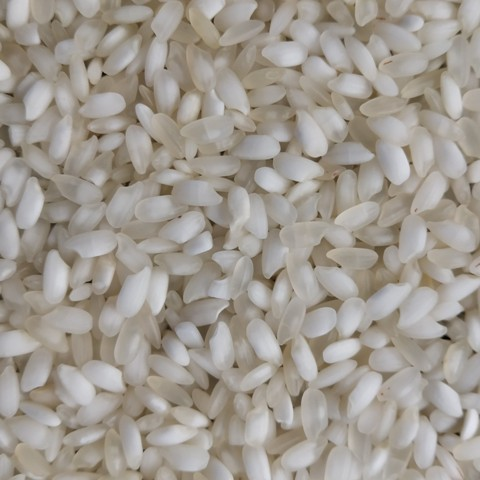g: (18, 32, 431, 473)
